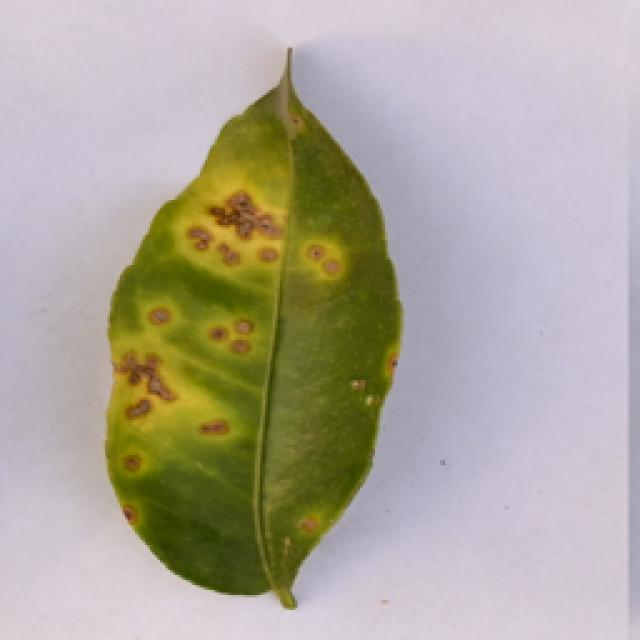canker: (100, 45, 402, 616)
